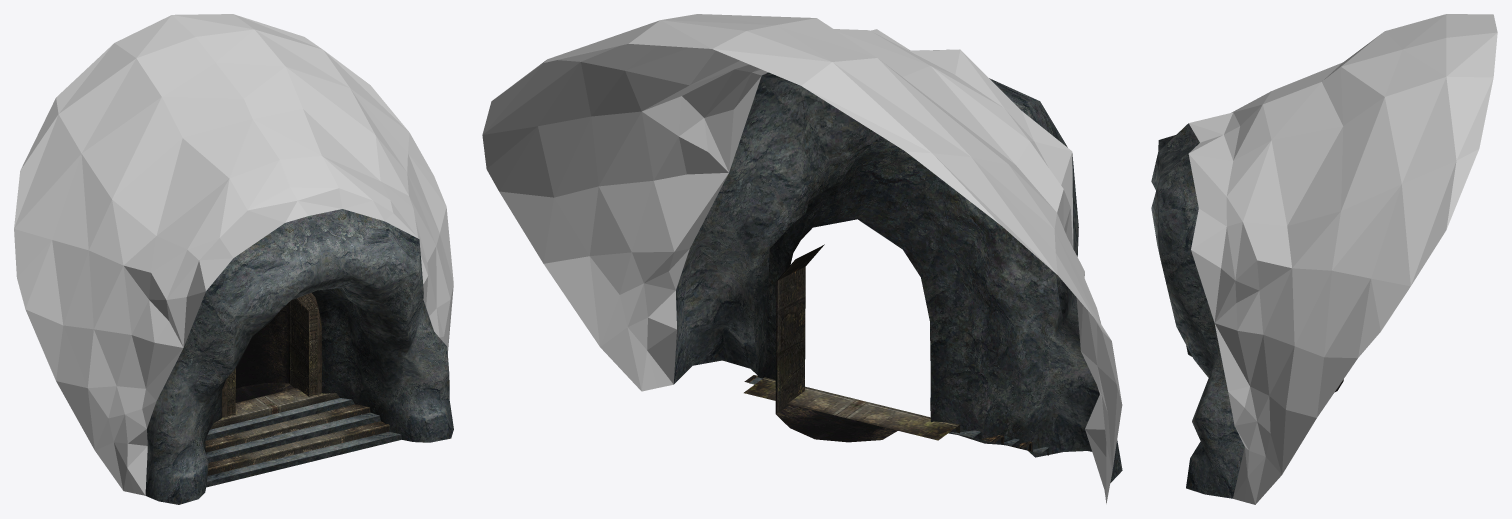
Rendered from ep-monkey_gate_01.fbx.
3 renders of one model, left to right at view 1: azimuth 30°, elevation 25°; view 2: azimuth 150°, elevation 25°; view 3: azimuth 270°, elevation 25°, orthographic. The views are drawn at different scales.
Visible parts, largest first — view 1: ep-monkey_gate_rock, ep-monkey_gate_rock2, ep-monkey_gate_bilid; view 2: ep-monkey_gate_rock, ep-monkey_gate_rock2, ep-monkey_gate_bilid; view 3: ep-monkey_gate_rock, ep-monkey_gate_rock2.
Boxes of the visible parts, x1,y1,x2,y2 form: ep-monkey_gate_rock: (14,14,453,495); ep-monkey_gate_rock2: (145,209,453,504); ep-monkey_gate_bilid: (205,293,389,475); ep-monkey_gate_rock: (482,14,1122,503); ep-monkey_gate_rock2: (673,72,1122,482); ep-monkey_gate_bilid: (744,244,1032,451); ep-monkey_gate_rock: (1188,14,1497,504); ep-monkey_gate_rock2: (1151,123,1244,498).
Size of the model in its own units: 32.4 by 26.15 by 21.18.
